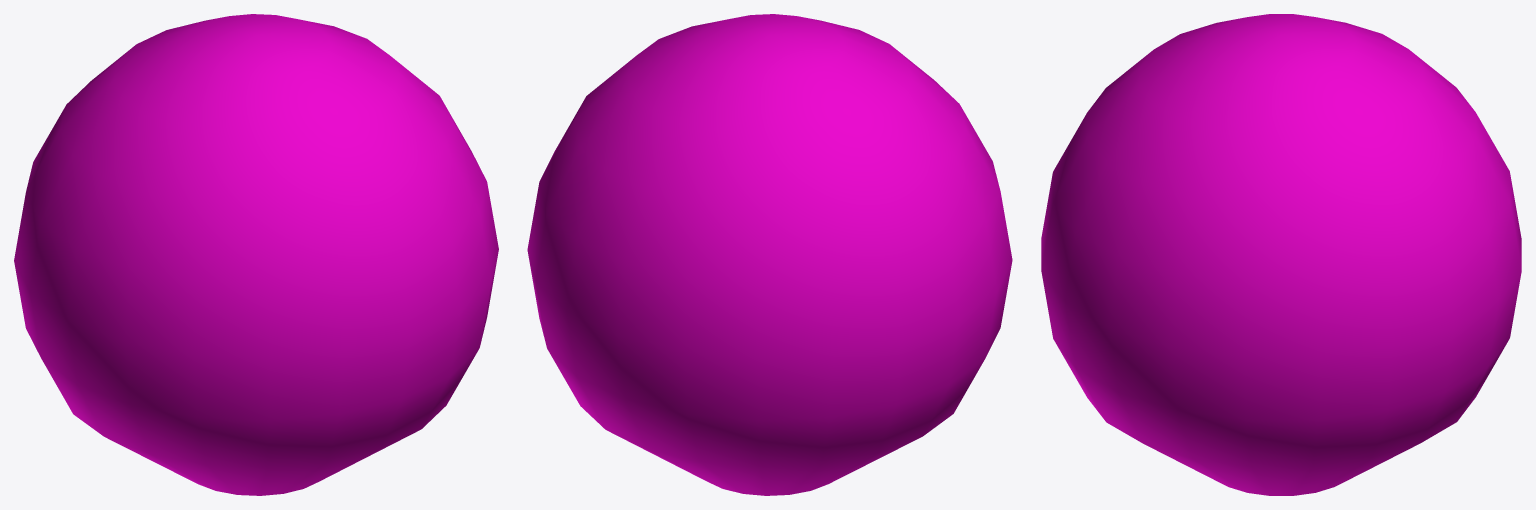
The model's file is geo_EnemyTooth_4.fbx.
3 renders of one model, left to right at view 1: azimuth 30°, elevation 25°; view 2: azimuth 150°, elevation 25°; view 3: azimuth 270°, elevation 25°, orthographic.
Visible parts, largest first — view 1: geo_EnemyToothEye_L2; view 2: geo_EnemyToothEye_L2; view 3: geo_EnemyToothEye_L2.
Part boxes in pixels (bbox=[...]): geo_EnemyToothEye_L2: bbox=[14, 14, 498, 495]; geo_EnemyToothEye_L2: bbox=[527, 14, 1012, 495]; geo_EnemyToothEye_L2: bbox=[1041, 14, 1521, 495].
Bounding box in the file's own units: 18.28 × 18.5 × 18.28.
